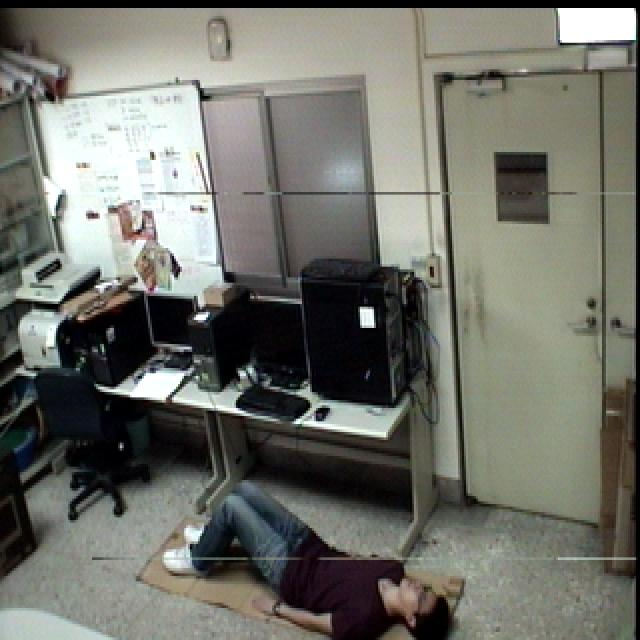lie: (152, 469, 460, 640)
